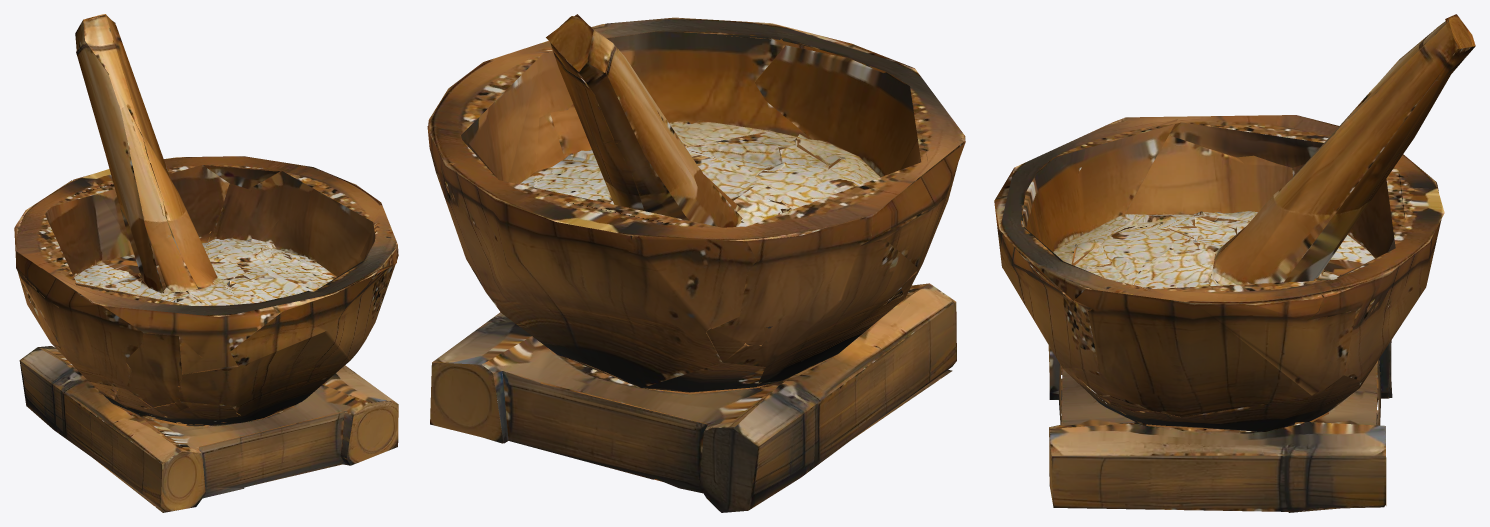
Rendered from turtle-prop-rice-mortar.glb.
The picture shows the model from 3 angles, left to right: view 1: azimuth 30°, elevation 25°; view 2: azimuth 150°, elevation 25°; view 3: azimuth 270°, elevation 25°; orthographic projection. The views are drawn at different scales.
Visible parts, largest first — view 1: Mesh_0; view 2: Mesh_0; view 3: Mesh_0.
Boxes of the visible parts, x1,y1,x2,y2 form: Mesh_0: [14, 14, 398, 512]; Mesh_0: [427, 14, 965, 512]; Mesh_0: [994, 14, 1475, 512].
Size of the model in its own units: 0.0487 by 0.05 by 0.0511.
1 material, 1 textured.
